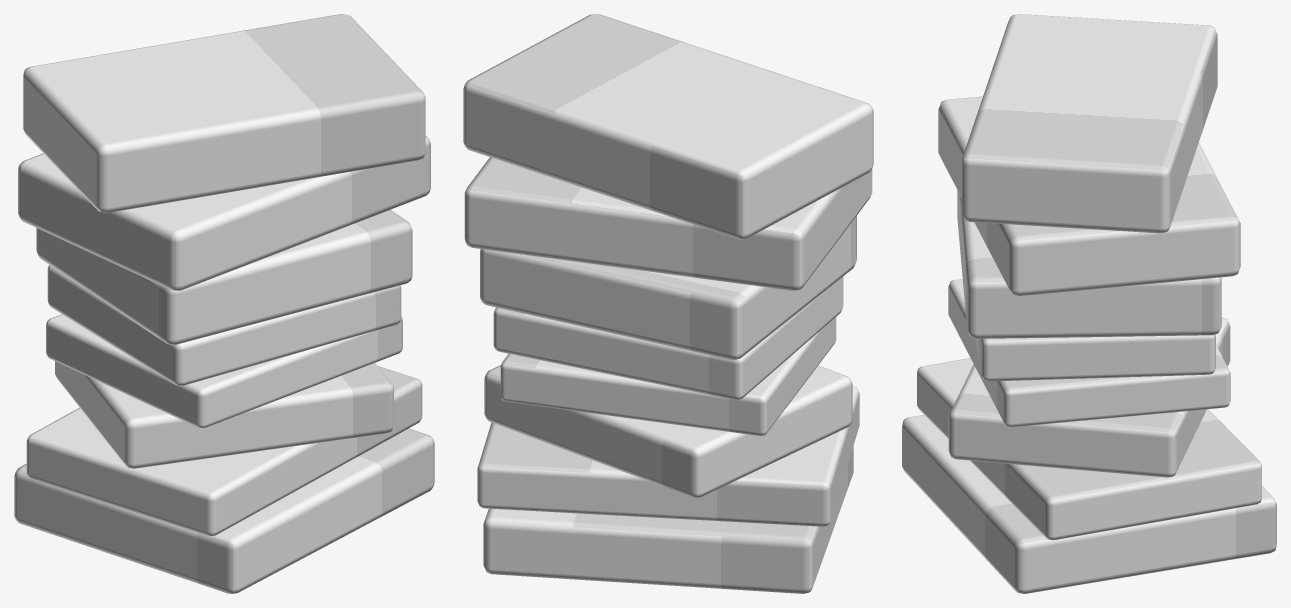
The model's file is bookPile.glb.
3 views of the same model, side by side, from view 1: azimuth 30°, elevation 25°; view 2: azimuth 150°, elevation 25°; view 3: azimuth 270°, elevation 25° (orthographic). The views are drawn at different scales.
Parts seen in each view (by area): view 1: dyn_color_tint; view 2: dyn_color_tint; view 3: dyn_color_tint.
Boxes of the visible parts, x1=… form: dyn_color_tint: x1=14, y1=14, x2=434, y2=593; dyn_color_tint: x1=463, y1=14, x2=873, y2=593; dyn_color_tint: x1=902, y1=14, x2=1276, y2=593.
Size of the model in its own units: 0.4282 by 0.4943 by 0.3962.
Materials: 1 (1 with a texture image).
